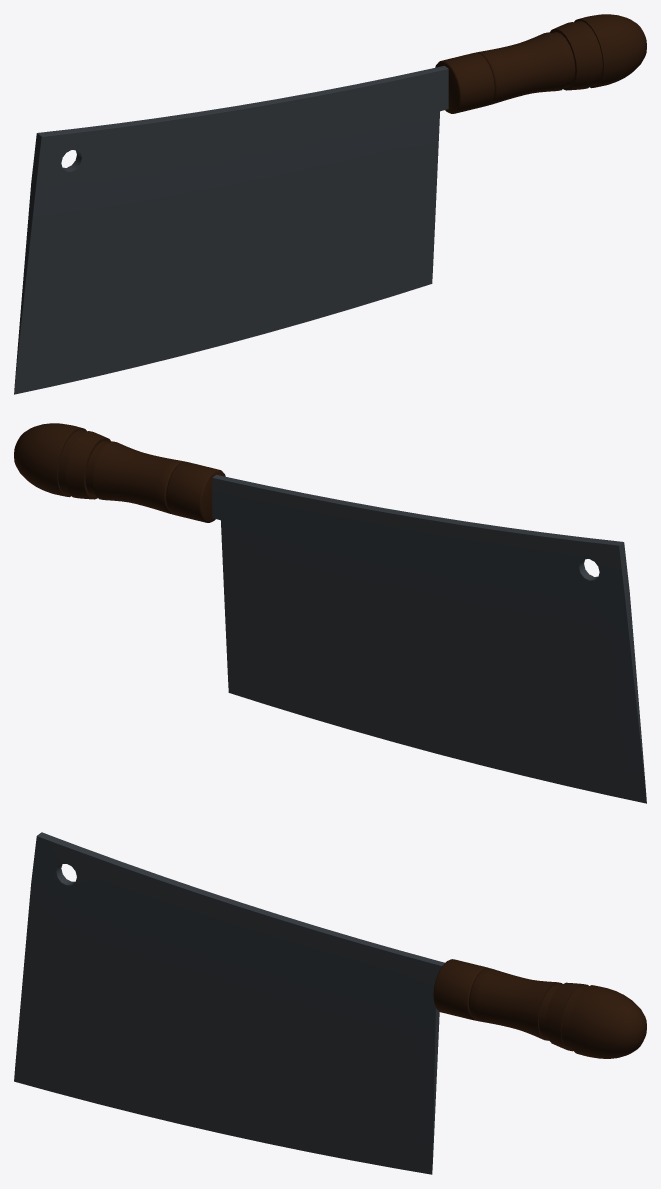
File: LowResKnife.fbx
The picture shows the model from 3 angles, top to bottom: view 1: azimuth 30°, elevation 25°; view 2: azimuth 150°, elevation 25°; view 3: azimuth 330°, elevation 25°; orthographic projection.
Parts seen in each view (by area): view 1: OUT_LOWRES_KNIFE; view 2: OUT_LOWRES_KNIFE; view 3: OUT_LOWRES_KNIFE.
Part boxes in pixels (box(x1,y1,x2,y2)): OUT_LOWRES_KNIFE: box(14, 14, 646, 394); OUT_LOWRES_KNIFE: box(14, 423, 646, 803); OUT_LOWRES_KNIFE: box(14, 832, 646, 1174).
Bounding box in the file's own units: 3.9 × 1.52 × 0.3862.
